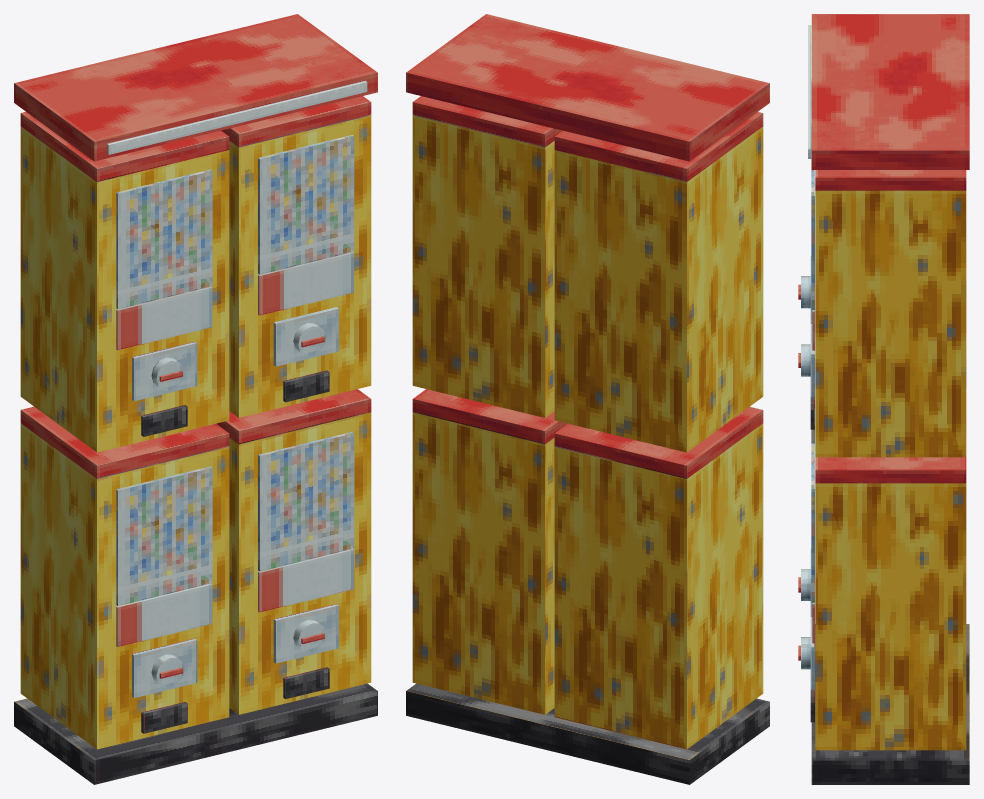
Rendered from route_yellow.glb.
3 views of the same model, side by side, from view 1: azimuth 30°, elevation 25°; view 2: azimuth 150°, elevation 25°; view 3: azimuth 270°, elevation 25° (orthographic).
Visible parts, largest first — view 1: mesh; view 2: mesh; view 3: mesh.
Boxes of the visible parts, x1,y1,x2,y2 form: mesh: (14,14,377,784); mesh: (406,14,769,784); mesh: (798,14,969,784).
Size of the model in its own units: 0.8999 by 1.95 by 0.478.
1 material, 1 textured.
